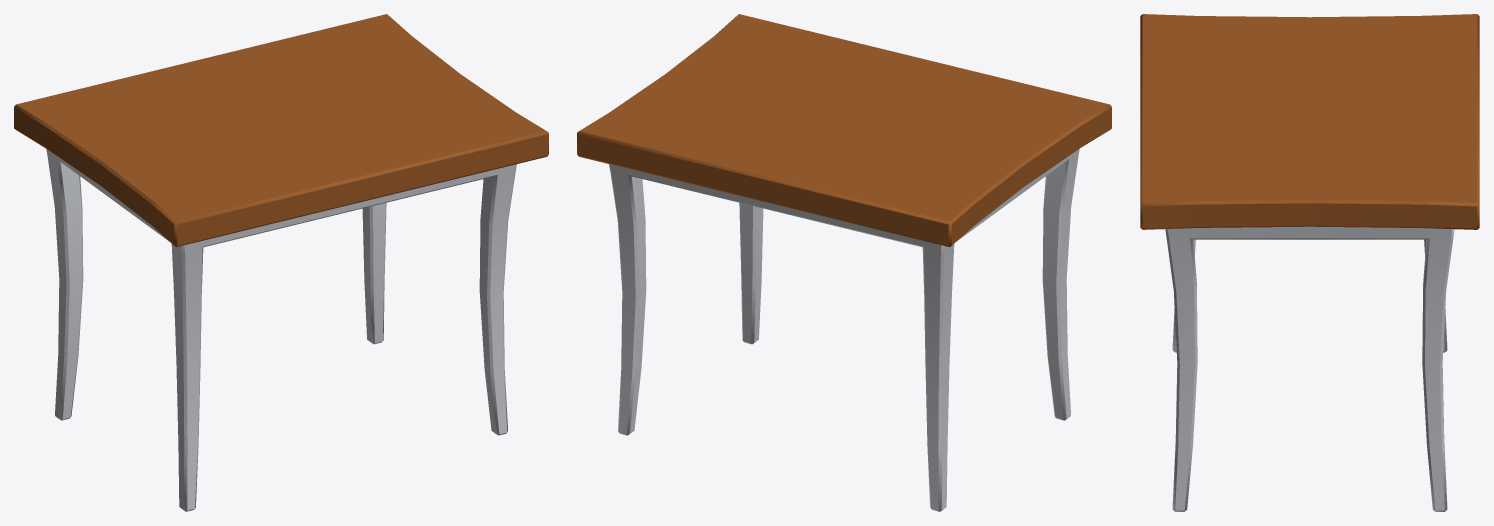
The model's file is Desk.fbx.
3 renders of one model, left to right at view 1: azimuth 30°, elevation 25°; view 2: azimuth 150°, elevation 25°; view 3: azimuth 270°, elevation 25°, orthographic. The views are drawn at different scales.
Visible parts, largest first — view 1: Desk; view 2: Desk; view 3: Desk.
Boxes of the visible parts, box(x1,y1,x2,y2) form: Desk: box(14, 14, 548, 511); Desk: box(577, 14, 1111, 511); Desk: box(1140, 14, 1479, 511).
Bounding box in the file's own units: 1.07 × 0.8413 × 0.8047.
